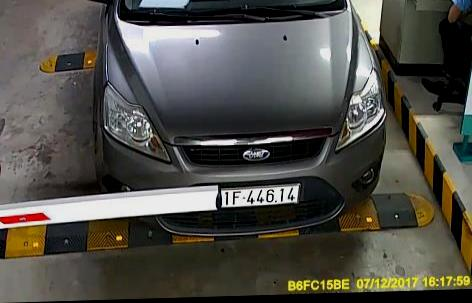License_Plate: (220, 183, 304, 209)
